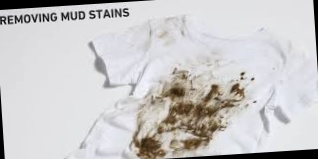earth: (166, 86, 226, 136), (135, 137, 166, 159), (169, 136, 211, 151), (226, 86, 246, 108), (238, 72, 255, 81)
